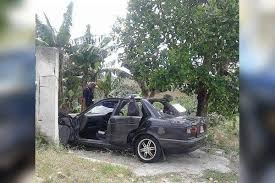Smashed: (59, 106, 109, 148)
